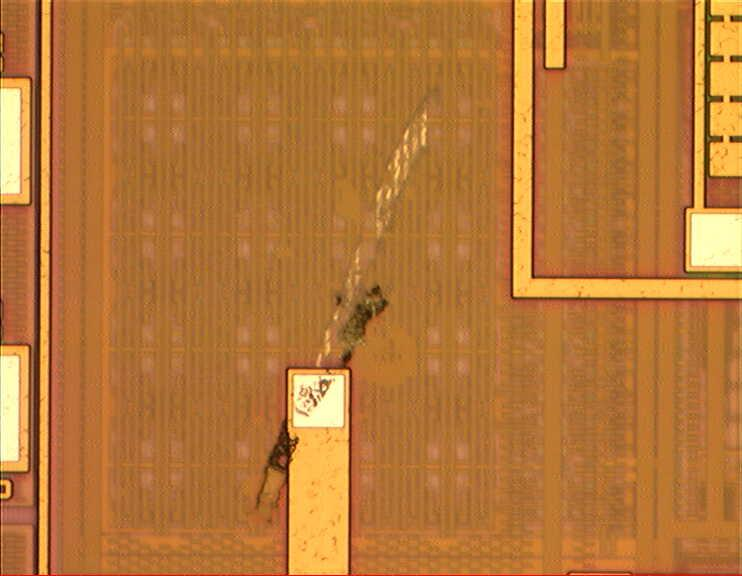SCRATCH: (249, 89, 444, 529)
